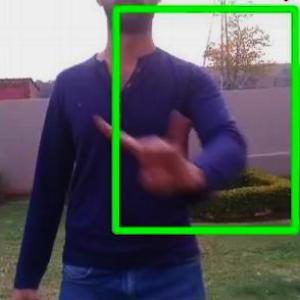takeoff-hand: (89, 106, 199, 199)
